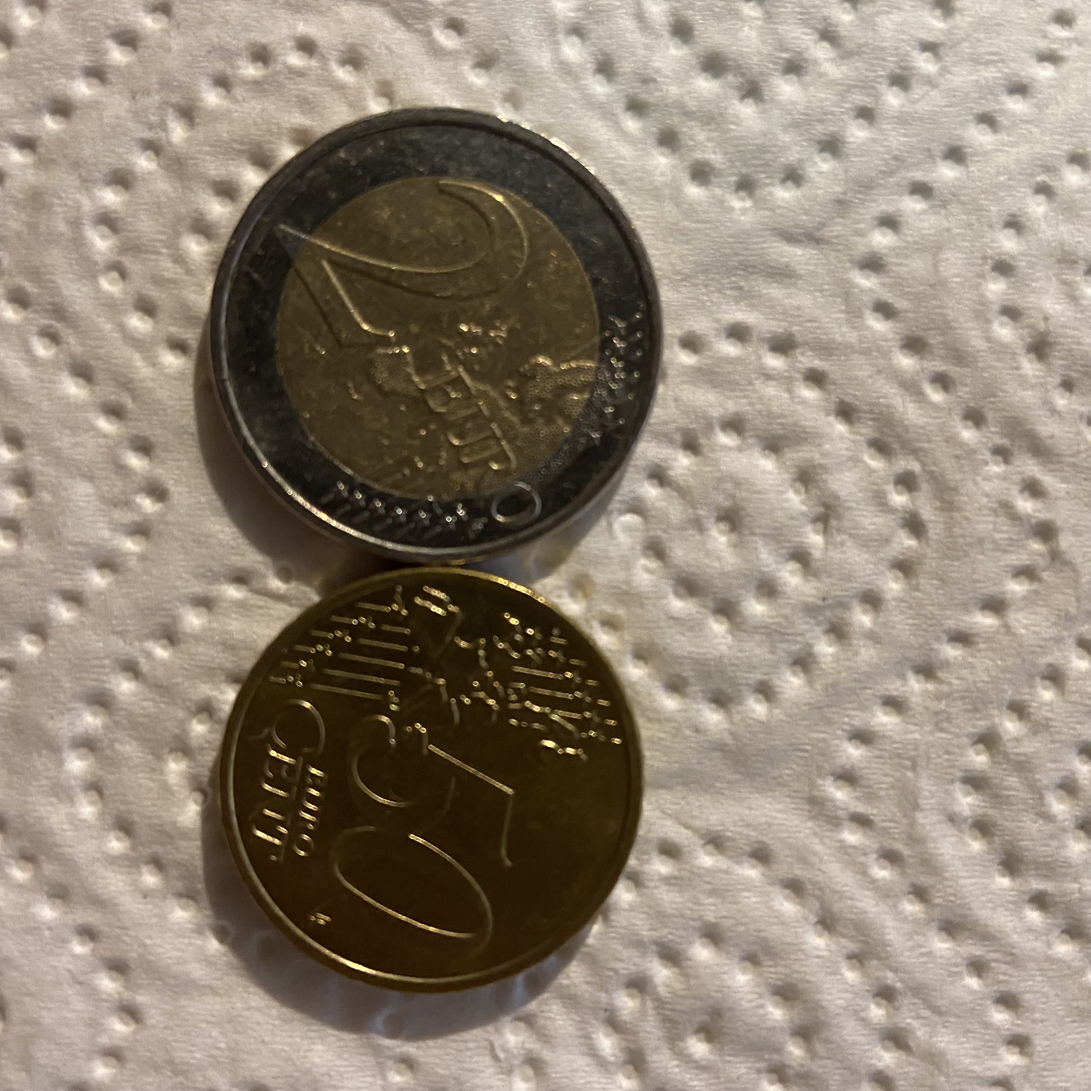2 euro: (199, 100, 671, 561)
50 cent: (216, 563, 650, 1006)
